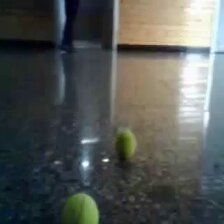tennis: (60, 194, 100, 224), (115, 130, 137, 160)
